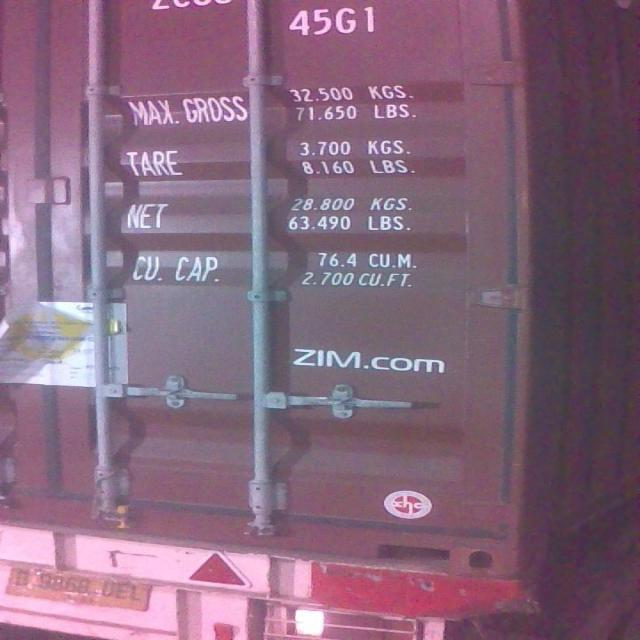seal: (112, 502, 135, 532)
